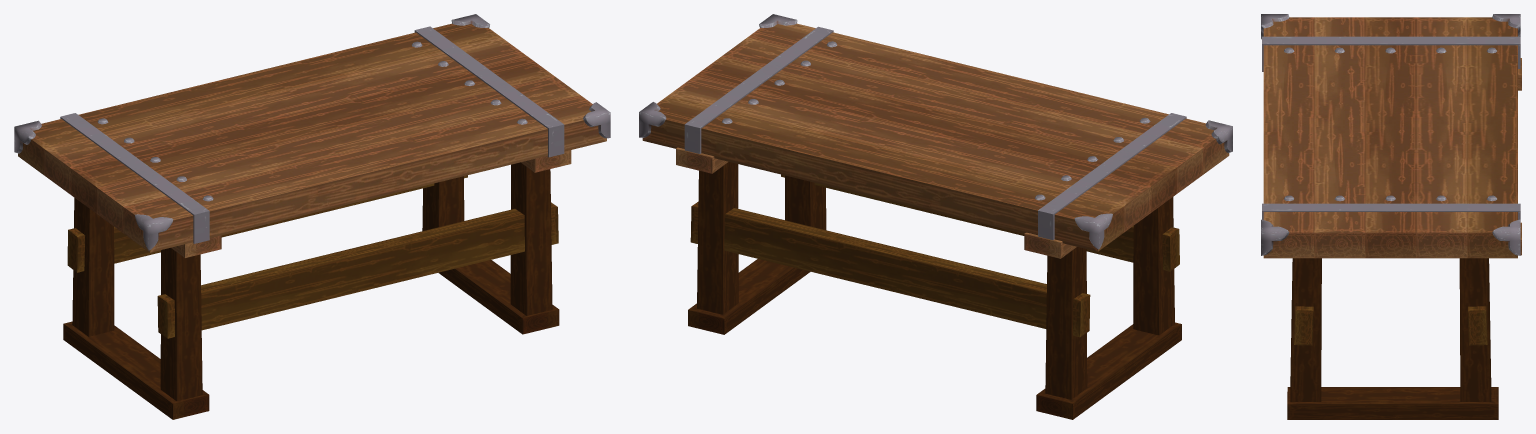
The model's file is Workbench.gltf.
3 renders of one model, left to right at view 1: azimuth 30°, elevation 25°; view 2: azimuth 150°, elevation 25°; view 3: azimuth 270°, elevation 25°, orthographic. The views are drawn at different scales.
Visible parts, largest first — view 1: Workbench; view 2: Workbench; view 3: Workbench.
Boxes of the visible parts, box(x1,y1,x2,y2) form: Workbench: box(14, 14, 610, 419); Workbench: box(639, 14, 1232, 419); Workbench: box(1261, 14, 1521, 419).
Size of the model in its own units: 2.02 by 0.8946 by 1.02.
Materials: 2 (2 with a texture image).
